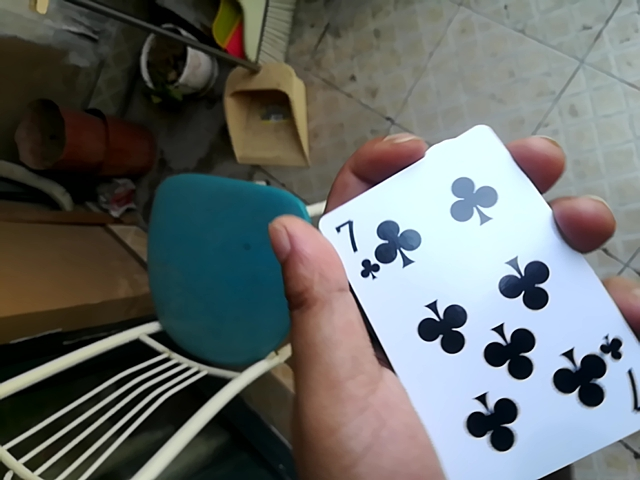mh 7: (303, 124, 636, 478)
